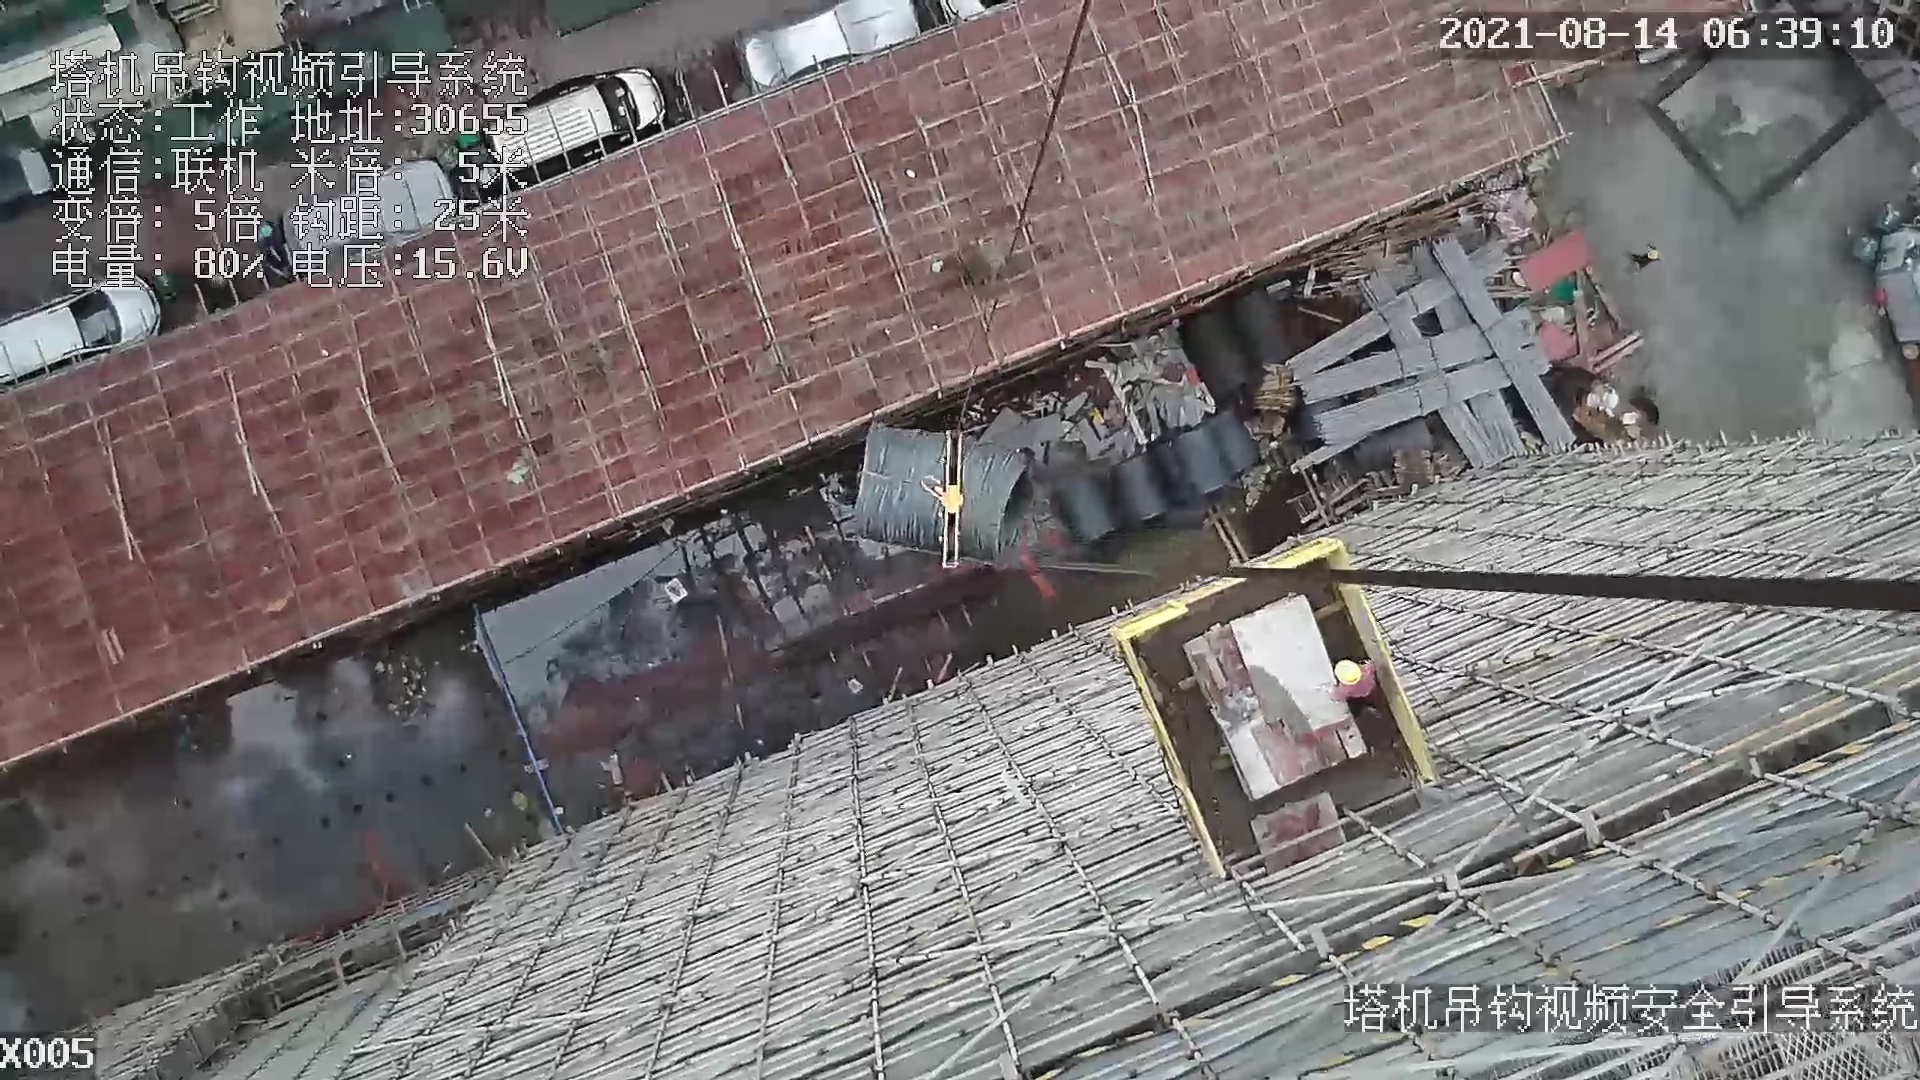helmet: (1330, 651, 1364, 690)
hook: (922, 421, 973, 571)
person: (1326, 653, 1385, 709)
